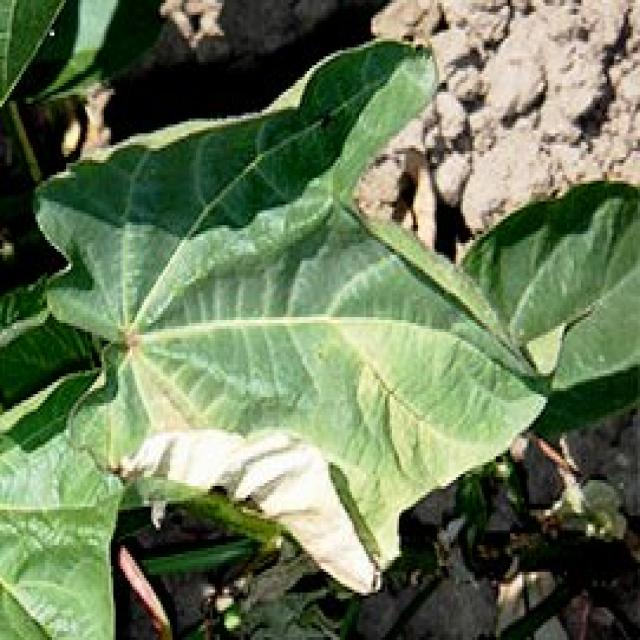Fusarium Wilt: (16, 30, 584, 640)
